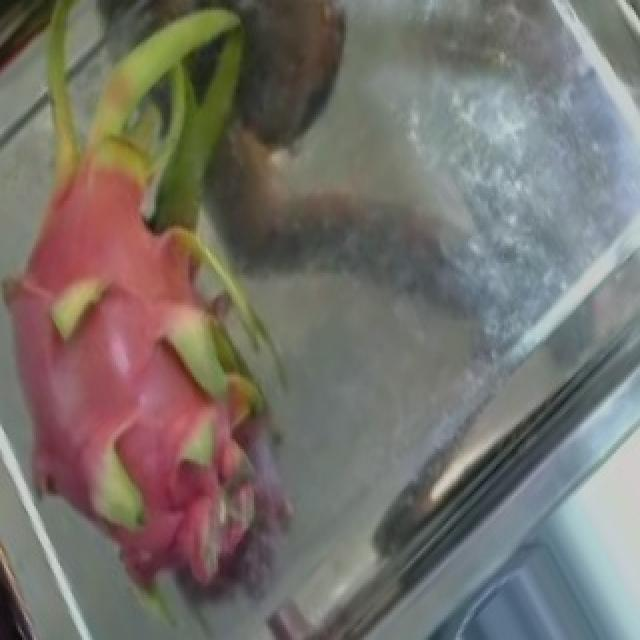fruit: (0, 198, 392, 640), (0, 2, 366, 432)
